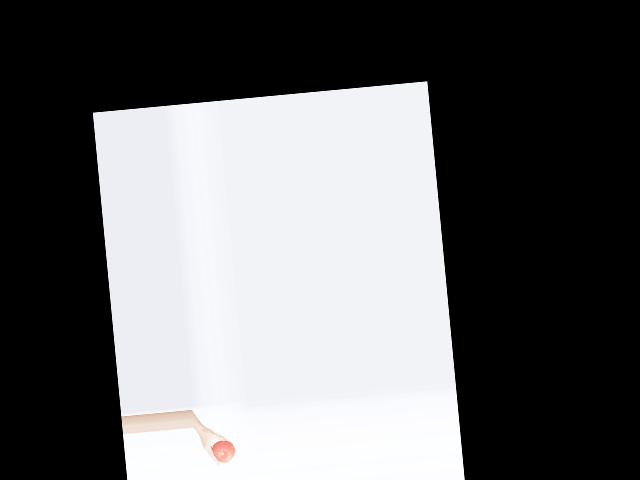tomato: (212, 439, 236, 464)
